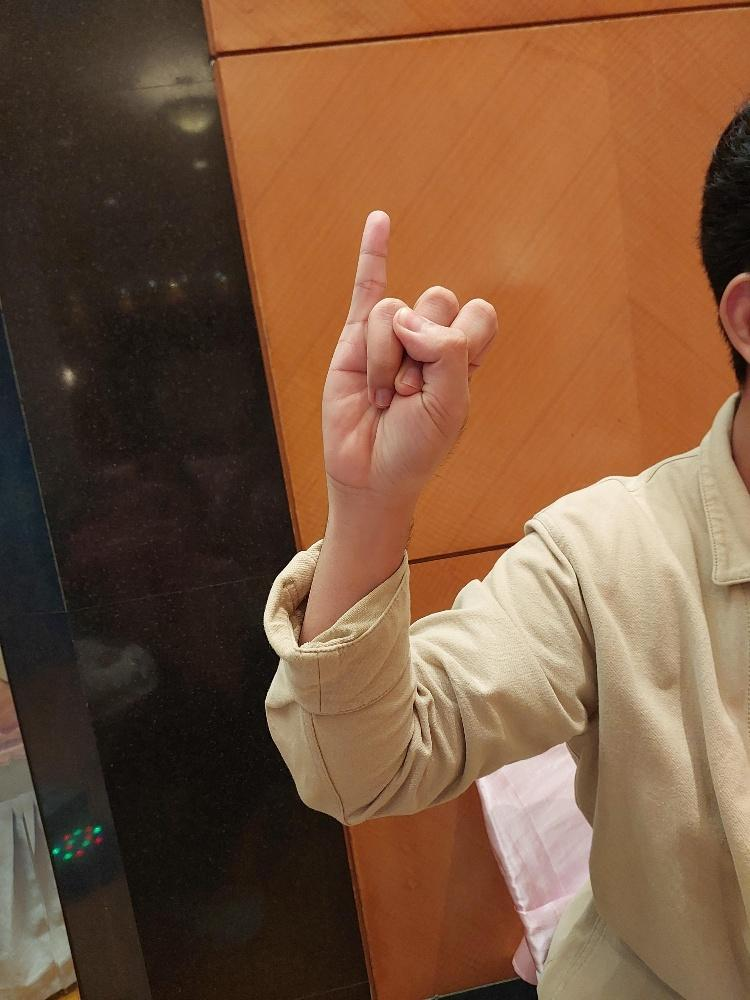i: (318, 206, 501, 500)
